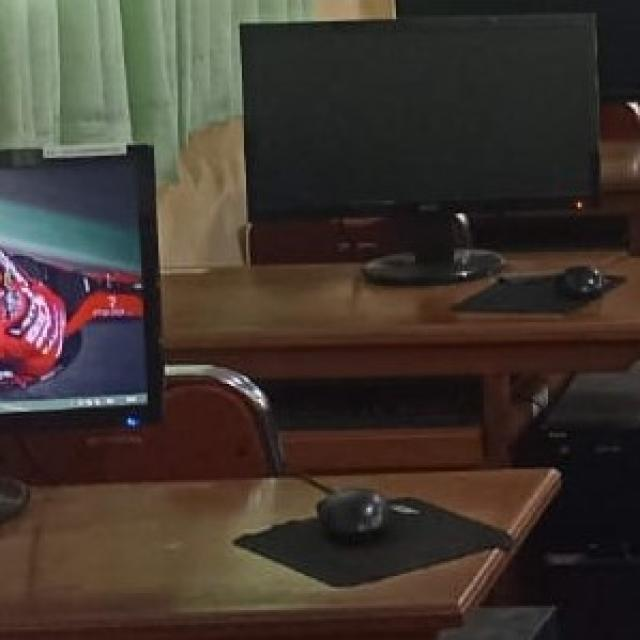offscreen: (243, 17, 596, 220)
onscreen: (3, 145, 162, 429)
